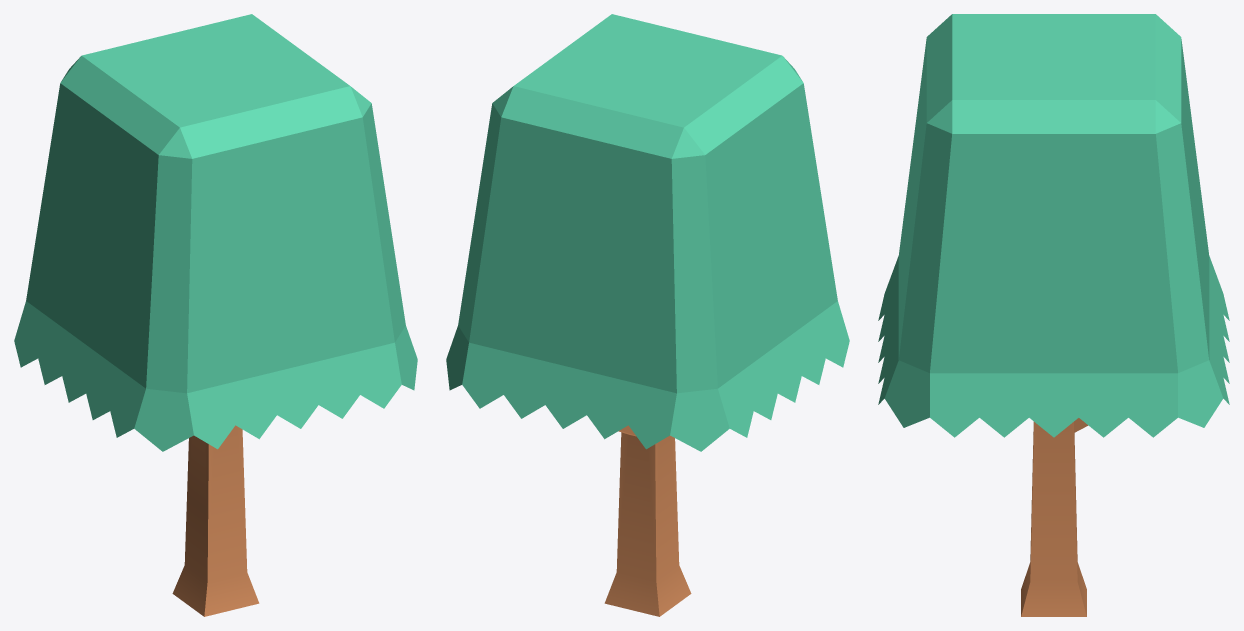
Rendered from tree.fbx.
3 renders of one model, left to right at view 1: azimuth 30°, elevation 25°; view 2: azimuth 150°, elevation 25°; view 3: azimuth 270°, elevation 25°, orthographic. The views are drawn at different scales.
Parts seen in each view (by area): view 1: tree; view 2: tree; view 3: tree.
Boxes of the visible parts, <box> form: tree: <box>14,14,417,616</box>; tree: <box>446,14,849,616</box>; tree: <box>878,14,1229,616</box>.
Size of the model in its own units: 11.33 by 19.41 by 11.33.
